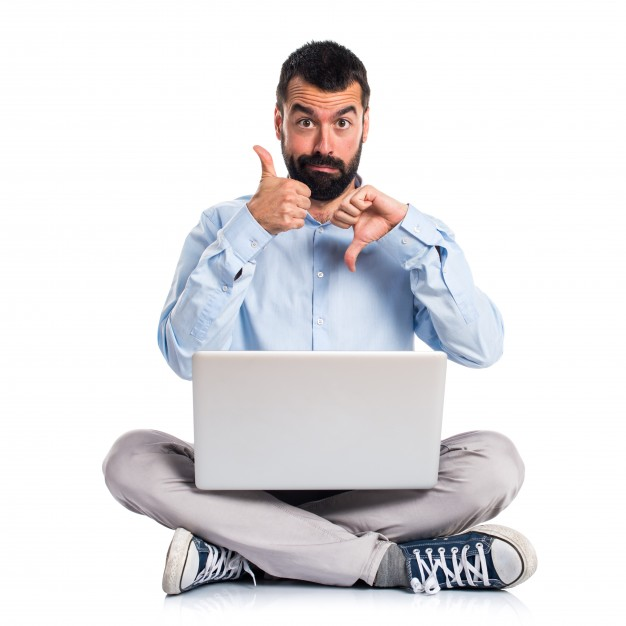thumbsup: (253, 144, 311, 229)
